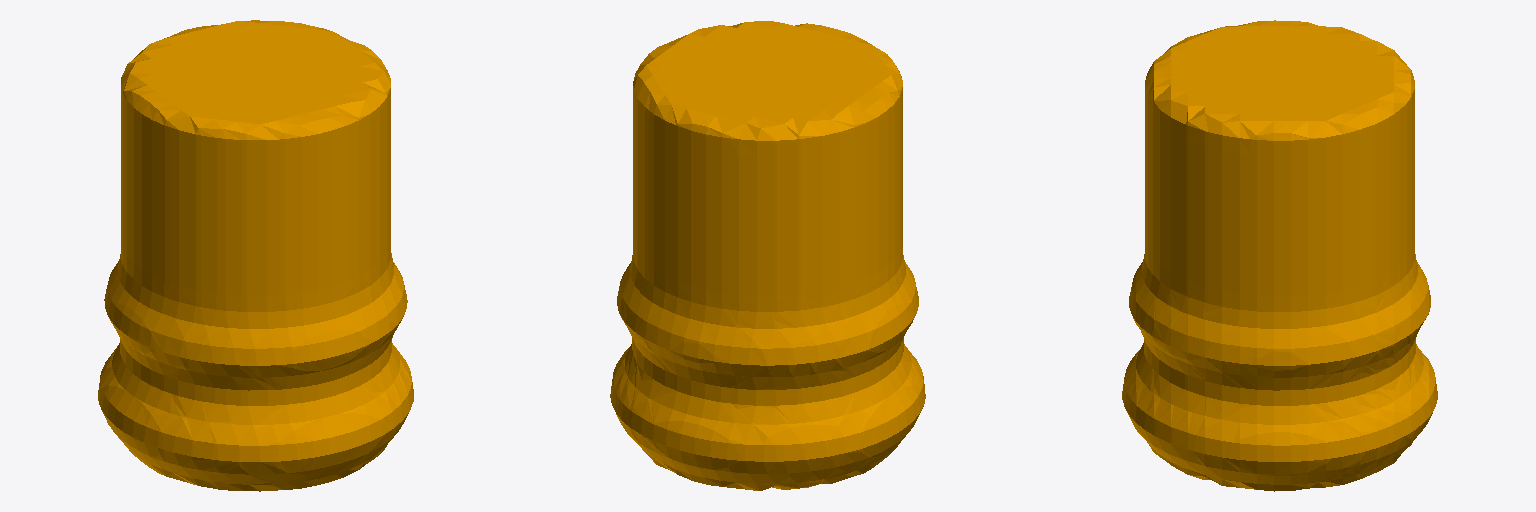
URDF robot description (cylinder_../../meshes/cylinders/cylinder_47.stl):
<?xml version="1.0" encoding="utf-8"?>  <robot name="cylinder_../../meshes/cylinders/cylinder_47.stl">   <link name="cylinder_../../meshes/cylinders/cylinder_47.stl">     <visual>       <geometry>         <mesh filename="../meshes/cylinders/cylinder_47.stl" scale="1 1 1"/>       </geometry>     </visual>     <collision>       <geometry>         <mesh filename="../meshes/cylinders/cylinder_47.stl" scale="1 1 1"/>       </geometry>     </collision>     <inertial>        <origin         xyz="0 0 0"         rpy="0 0 0" />       <mass value="0.6084473861117624"/>       <origin rpy="0 0 0" xyz="0 0 0"/>       <inertia ixx="0.0009519078197785373" ixy="-1.1955969487294818e-07" ixz="-2.1706106600112636e-08" iyy="0.000951907435039532" iyz="-6.632900427217596e-09" izz="0.0005063287385252888"/>     </inertial>   </link>  </robot>

--- Render facts (derived) ---
The picture shows the robot from 3 angles, left to right: view 1: azimuth 30°, elevation 25°; view 2: azimuth 150°, elevation 25°; view 3: azimuth 270°, elevation 25°; orthographic projection.
Model cylinder_../../meshes/cylinders/cylinder_47.stl with 1 links and 0 joints (none), rooted at cylinder_../../meshes/cylinders/cylinder_47.stl, posed every joint at zero.
Visible links, largest first — view 1: cylinder_../../meshes/cylinders/cylinder_47.stl; view 2: cylinder_../../meshes/cylinders/cylinder_47.stl; view 3: cylinder_../../meshes/cylinders/cylinder_47.stl.
Boxes of the visible links, x1,y1,x2,y2 form: cylinder_../../meshes/cylinders/cylinder_47.stl: [98, 20, 413, 491]; cylinder_../../meshes/cylinders/cylinder_47.stl: [610, 21, 925, 490]; cylinder_../../meshes/cylinders/cylinder_47.stl: [1122, 20, 1437, 491].
Bounding box of the posed robot: 0.0918 × 0.0918 × 0.1178 m (x, y, z).
Meshes: 1 distinct files referenced, 1 mesh visuals loaded (1 binary STL).